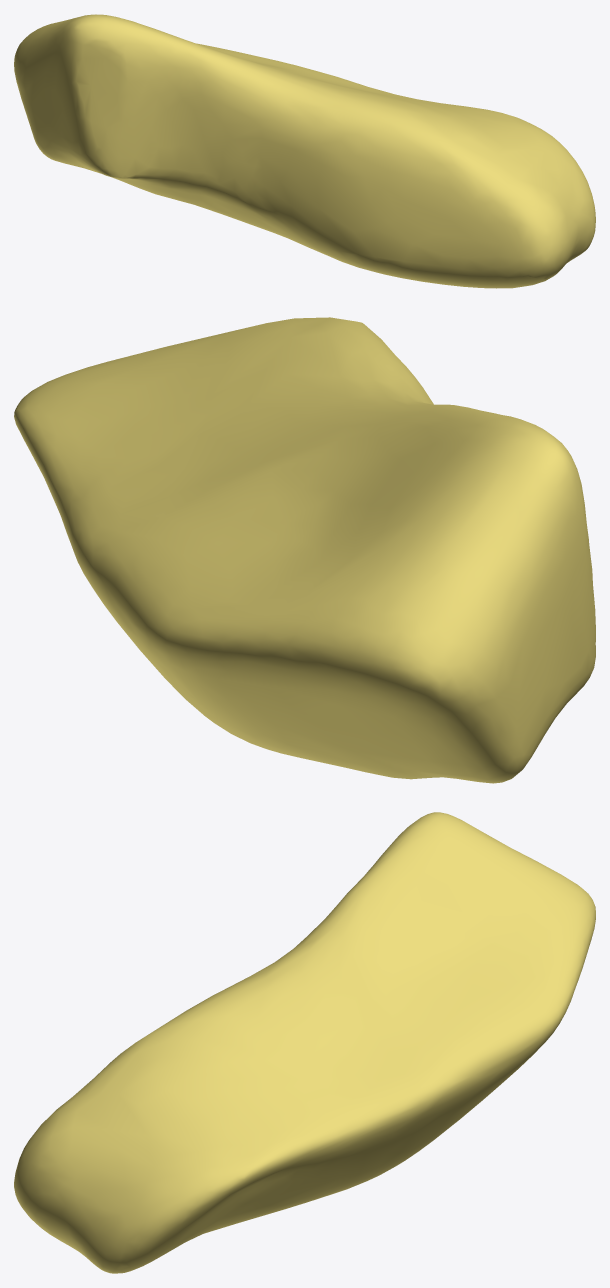
The model's file is posterior-quadrangular-lobule-l.glb.
3 renders of one model, top to bottom at view 1: azimuth 30°, elevation 25°; view 2: azimuth 150°, elevation 25°; view 3: azimuth 270°, elevation 25°, orthographic. The views are drawn at different scales.
Visible parts, largest first — view 1: Posterior quadrangular lobule.l; view 2: Posterior quadrangular lobule.l; view 3: Posterior quadrangular lobule.l.
Boxes of the visible parts, x1,y1,x2,y2 form: Posterior quadrangular lobule.l: (14, 14, 595, 288); Posterior quadrangular lobule.l: (14, 317, 595, 783); Posterior quadrangular lobule.l: (14, 812, 595, 1273).
Bounding box in the file's own units: 0.0423 × 0.0233 × 0.0451.
